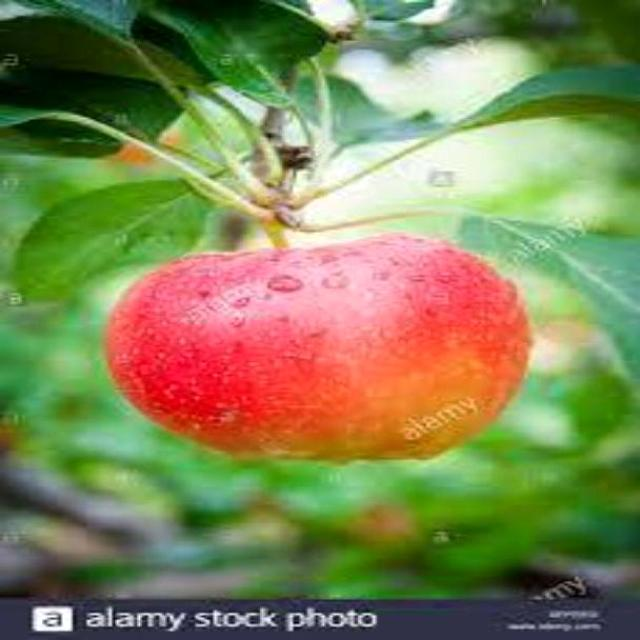HEALTHY: (96, 198, 565, 477)
